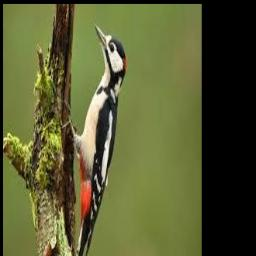Woodpecker: (61, 23, 126, 256)
